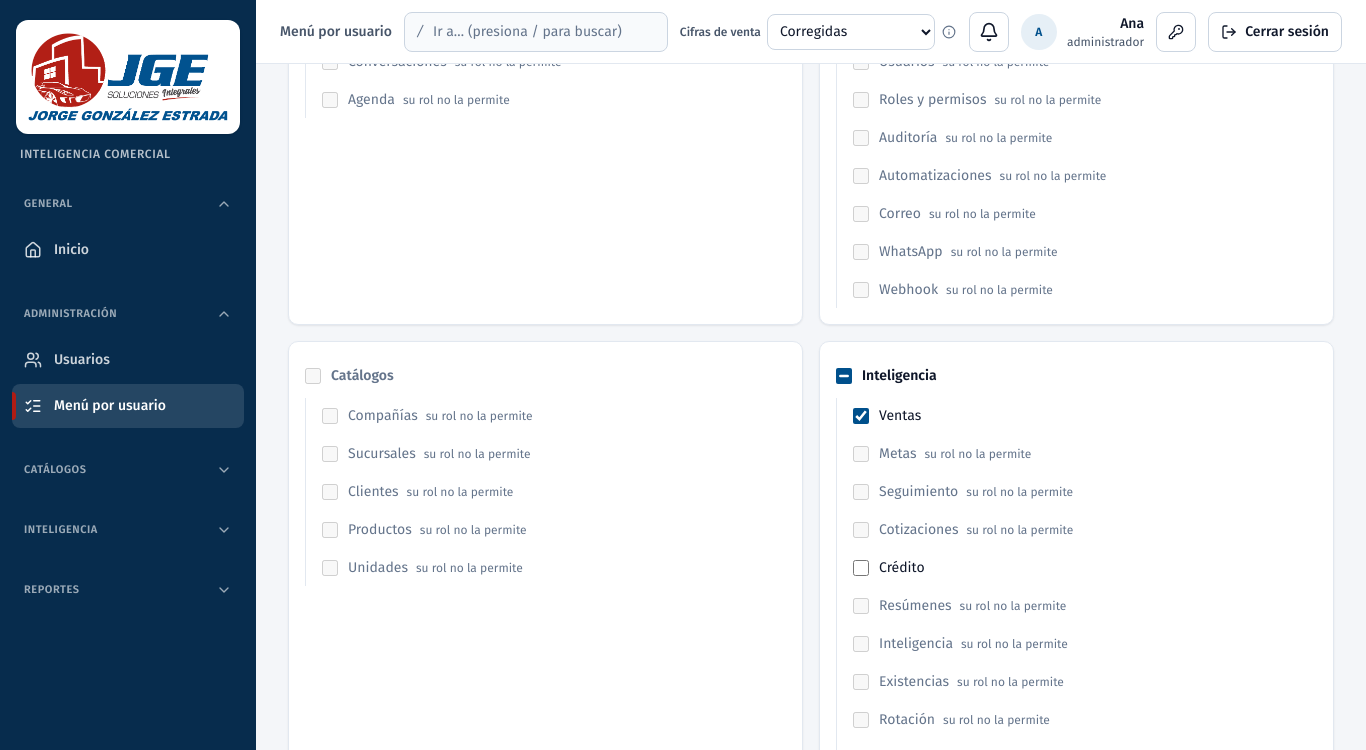
Test: pantalla «Menú por usuario» › con cambios sin guardar no se puede elegir a otra persona
(page scrolled)
Step 1. Click the checkbox named "Inteligencia: Ventas" → (861, 416), box [853,408,869,424]
(page scrolled)
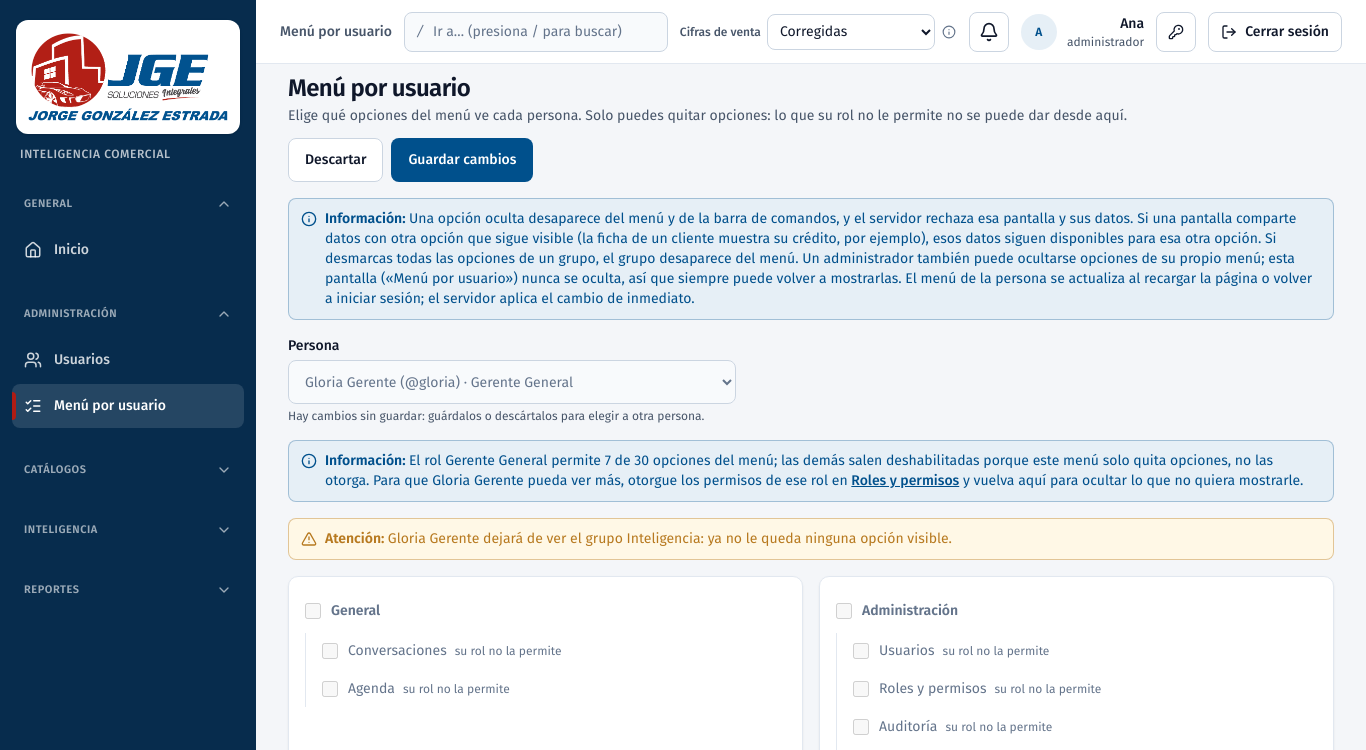
Check: the dropdown labelled "Persona" is disabled, box [288,360,736,404]
Check: the text "cambios sin guardar" is shown, box [288,409,704,423]
